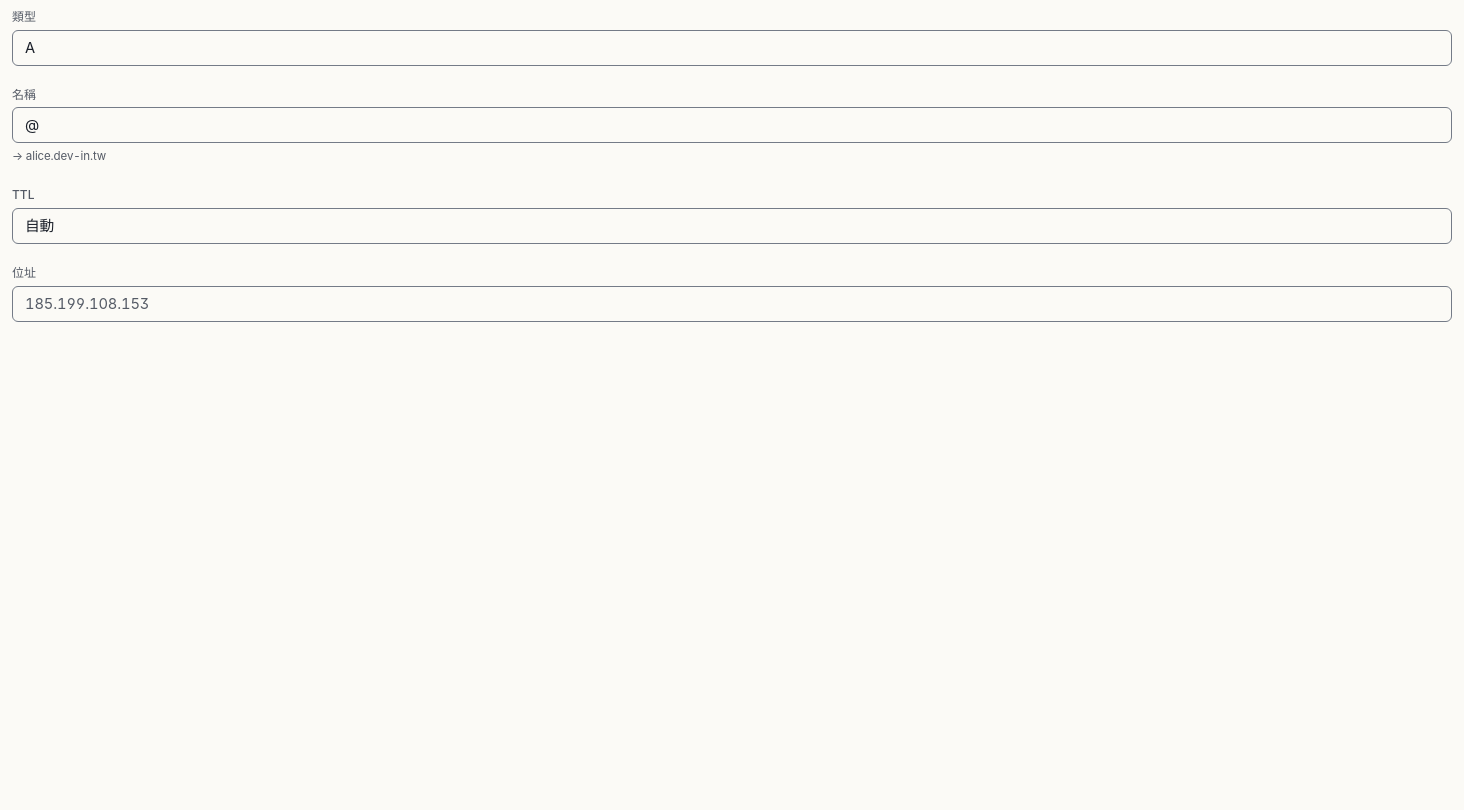
Test case: DNS editor fields › switches fields when the record type changes
Check: the field labelled "位址" is shown, box [12,286,1452,322]
Check: the field labelled "優先序" is not shown
Select "MX" in the dropdown labelled "類型": x=732, y=48 [12,30,1452,66]
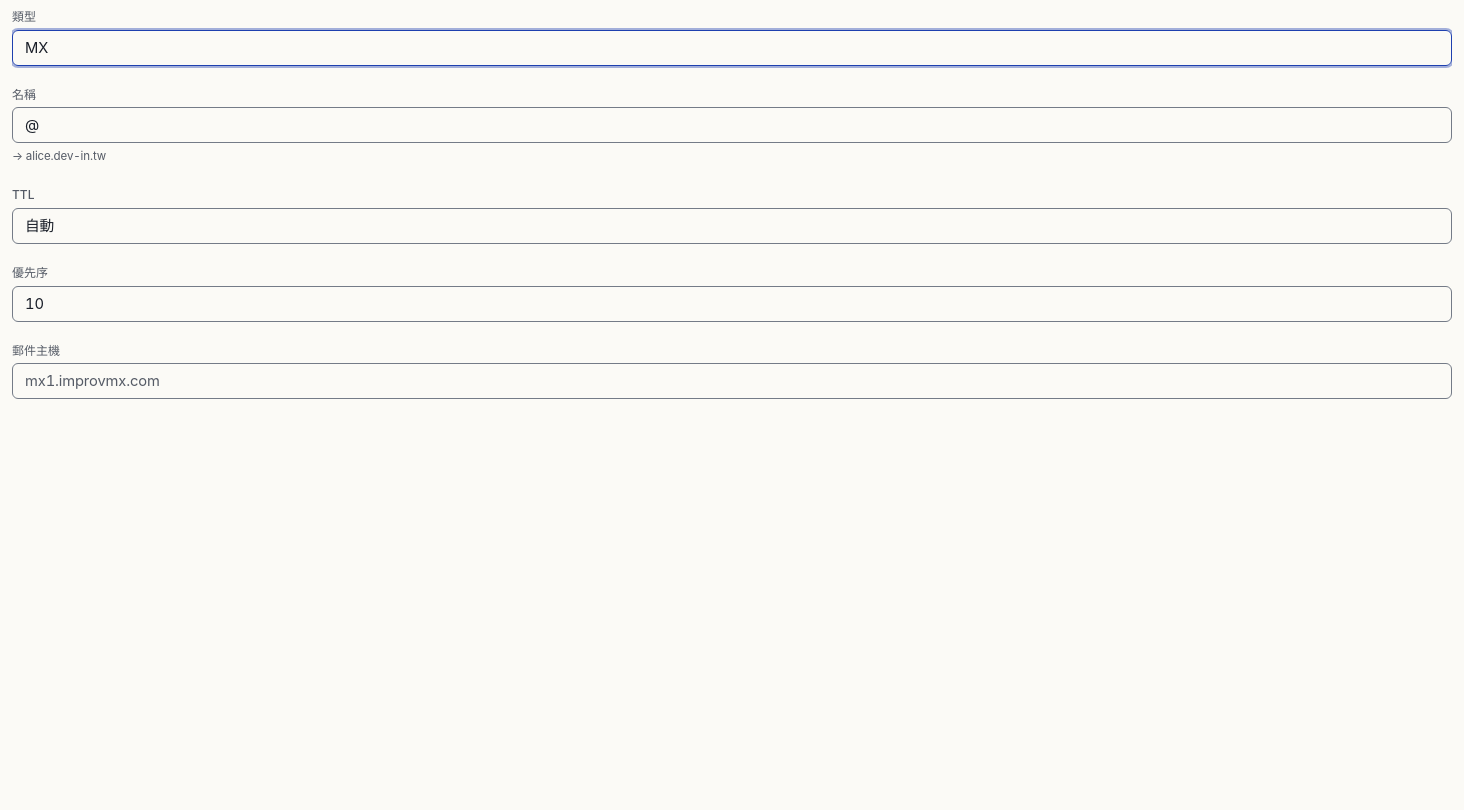
Check: the field labelled "優先序" is shown, box [12,286,1452,322]
Check: the field labelled "郵件主機" is shown, box [12,363,1452,399]
Check: the label labelled "位址" is gone
Select "SRV" in the dropdown labelled "類型": x=732, y=48 [12,30,1452,66]
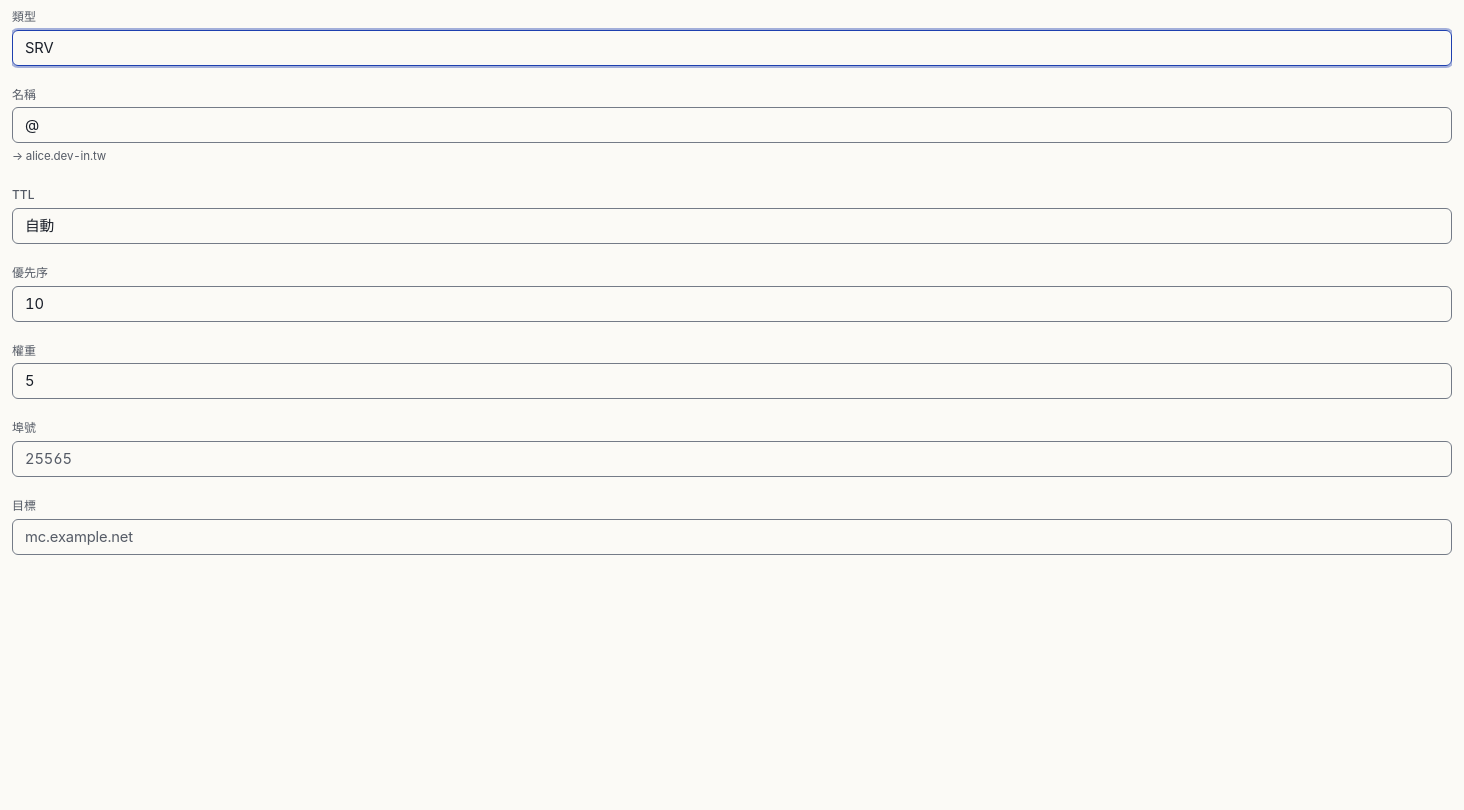
Check: the field labelled "優先序" is shown, box [12,286,1452,322]
Check: the field labelled "權重" is shown, box [12,363,1452,399]
Check: the field labelled "埠號" is shown, box [12,441,1452,477]
Select "CAA" in the dropdown labelled "類型": x=732, y=48 [12,30,1452,66]
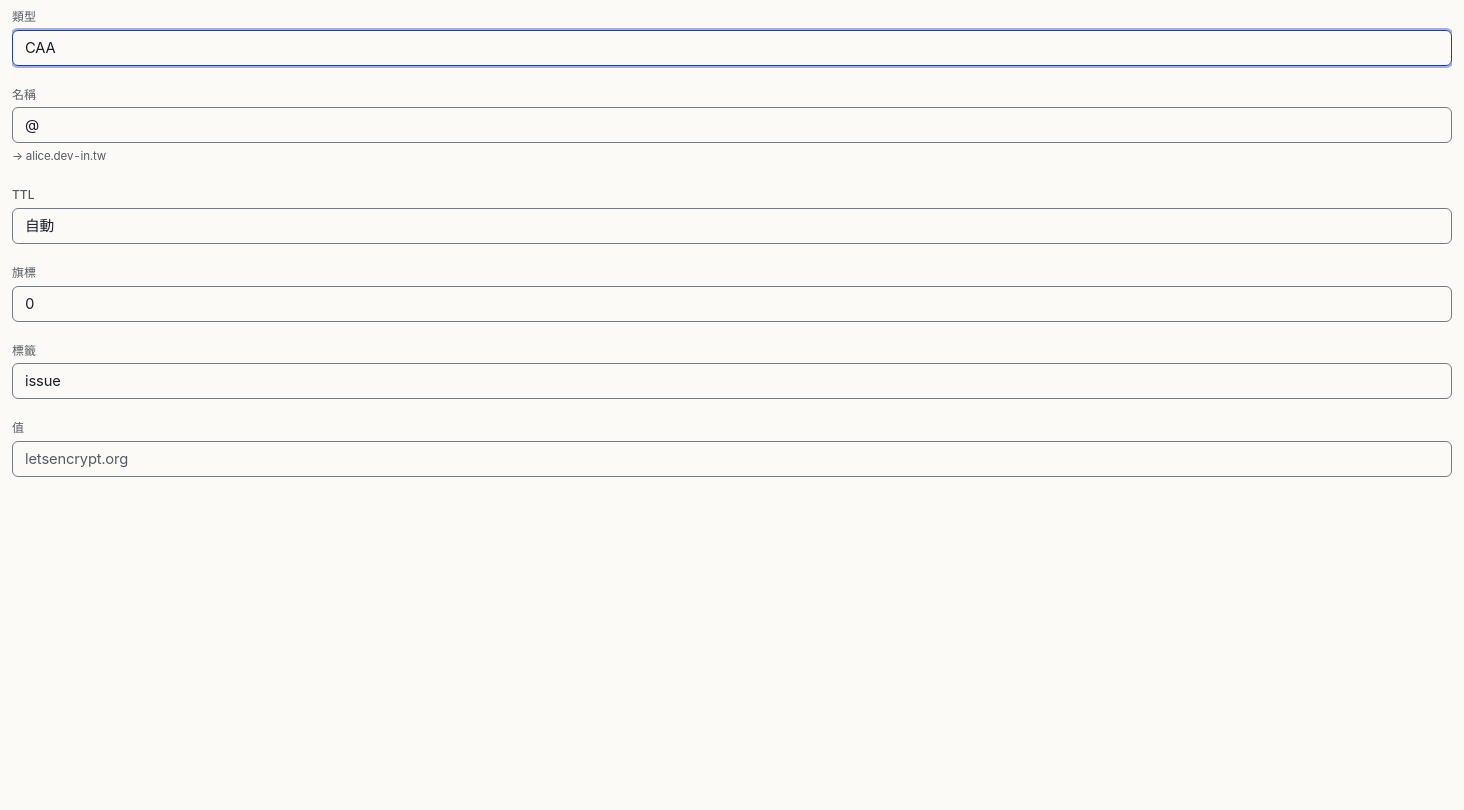
Check: the field labelled "旗標" is shown, box [12,286,1452,322]
Check: the dropdown labelled "標籤" is shown, box [12,363,1452,399]
Check: the field labelled "值" is shown, box [12,441,1452,477]
